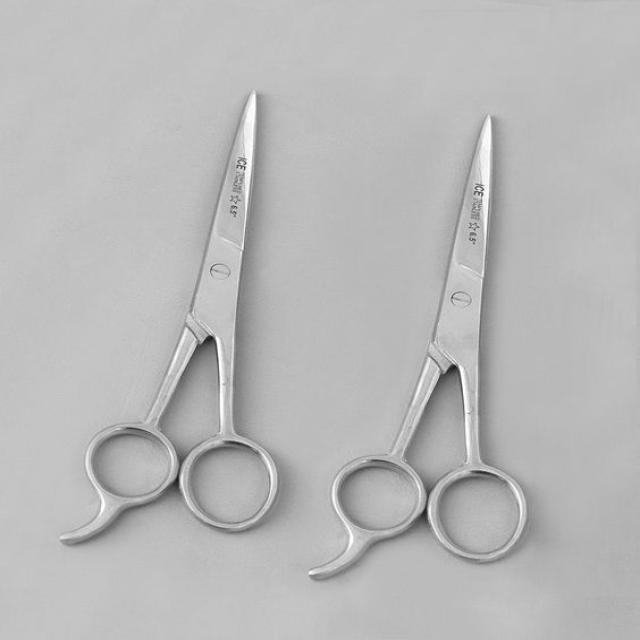scissor: (51, 70, 303, 555)
